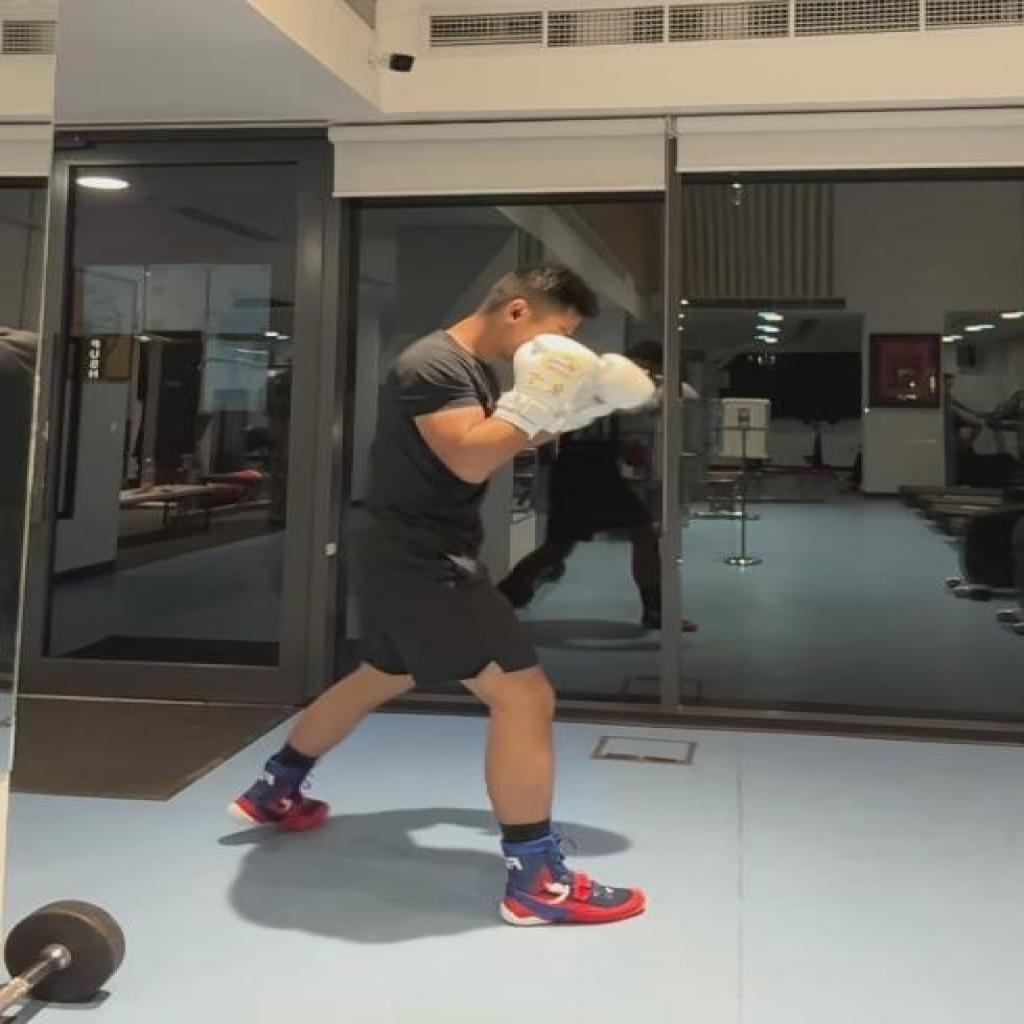no punch: (228, 266, 664, 926)
